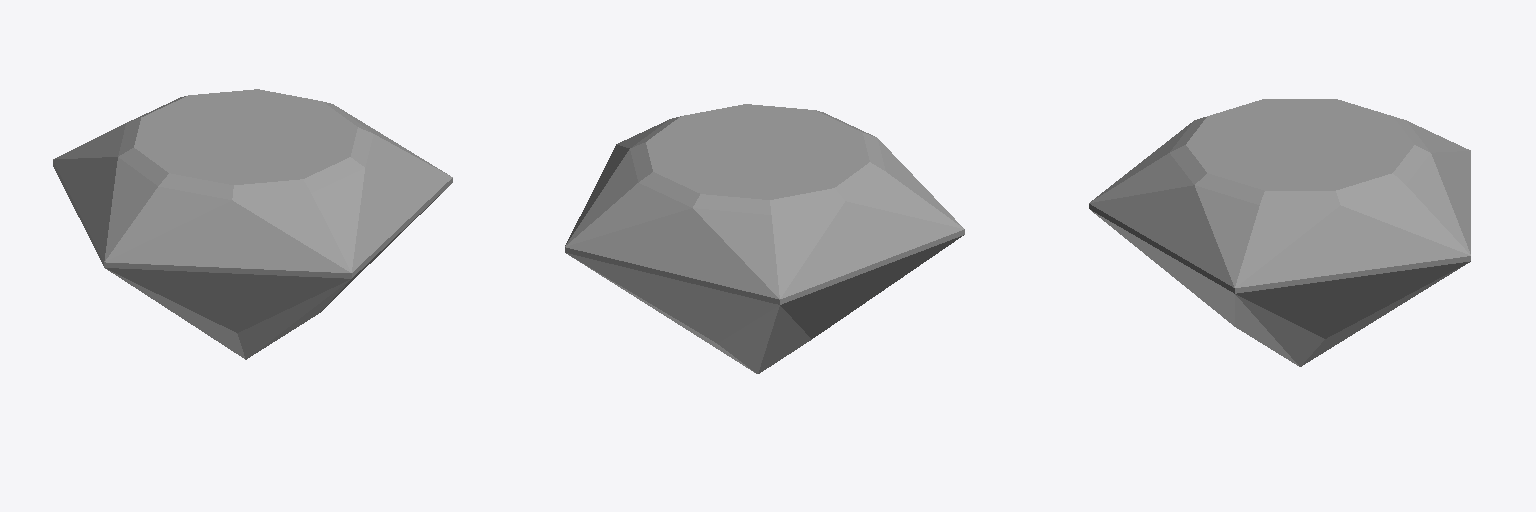
Rendered from gem.obj.
3 renders of one model, left to right at view 1: azimuth 30°, elevation 25°; view 2: azimuth 150°, elevation 25°; view 3: azimuth 270°, elevation 25°, orthographic.
Parts seen in each view (by area): view 1: novice8__0; view 2: novice8__0; view 3: novice8__0.
Part boxes in pixels (bbox=[...]): novice8__0: bbox=[53, 89, 452, 359]; novice8__0: bbox=[565, 104, 964, 373]; novice8__0: bbox=[1089, 99, 1470, 366].
Size of the model in its own units: 0.1395 by 0.0851 by 0.1327.